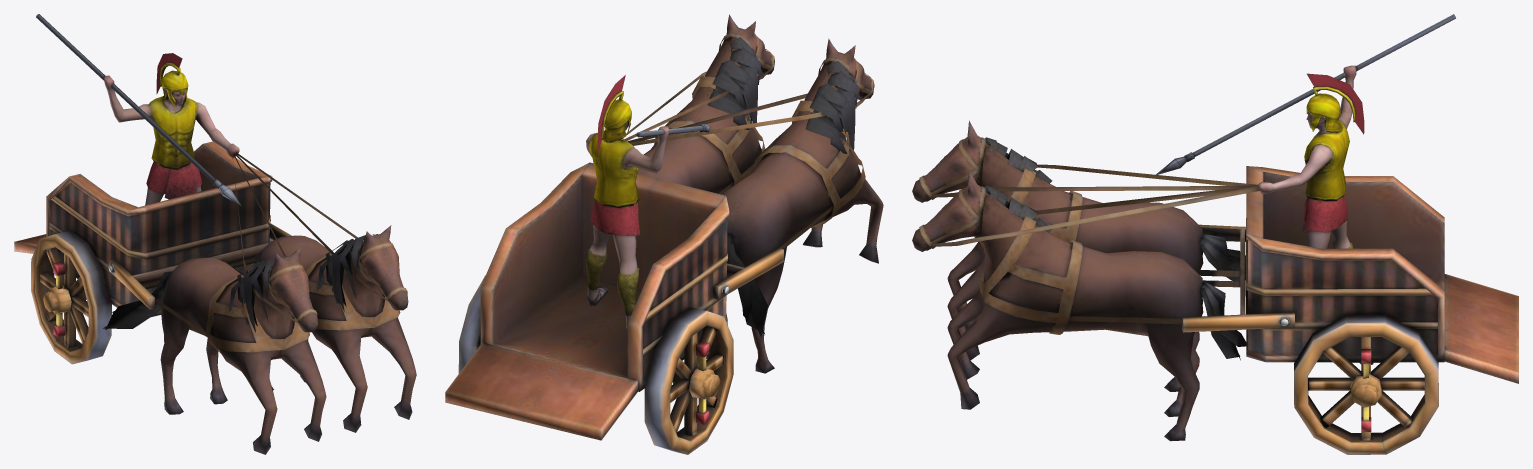
Rendered from Chariot.glb.
3 renders of one model, left to right at view 1: azimuth 30°, elevation 25°; view 2: azimuth 150°, elevation 25°; view 3: azimuth 270°, elevation 25°, orthographic. The views are drawn at different scales.
Parts seen in each view (by area): view 1: horse, character; view 2: horse, character; view 3: horse, character.
Part boxes in pixels (box(x1,y1,x2,y2)): horse: box(14, 141, 416, 454); character: box(36, 14, 241, 206); horse: box(445, 14, 883, 454); character: box(585, 75, 710, 332); horse: box(912, 120, 1518, 454); character: box(1154, 14, 1455, 248).
Size of the model in its own units: 2.09 by 2.9 by 4.58.
2 materials, 2 textured.
